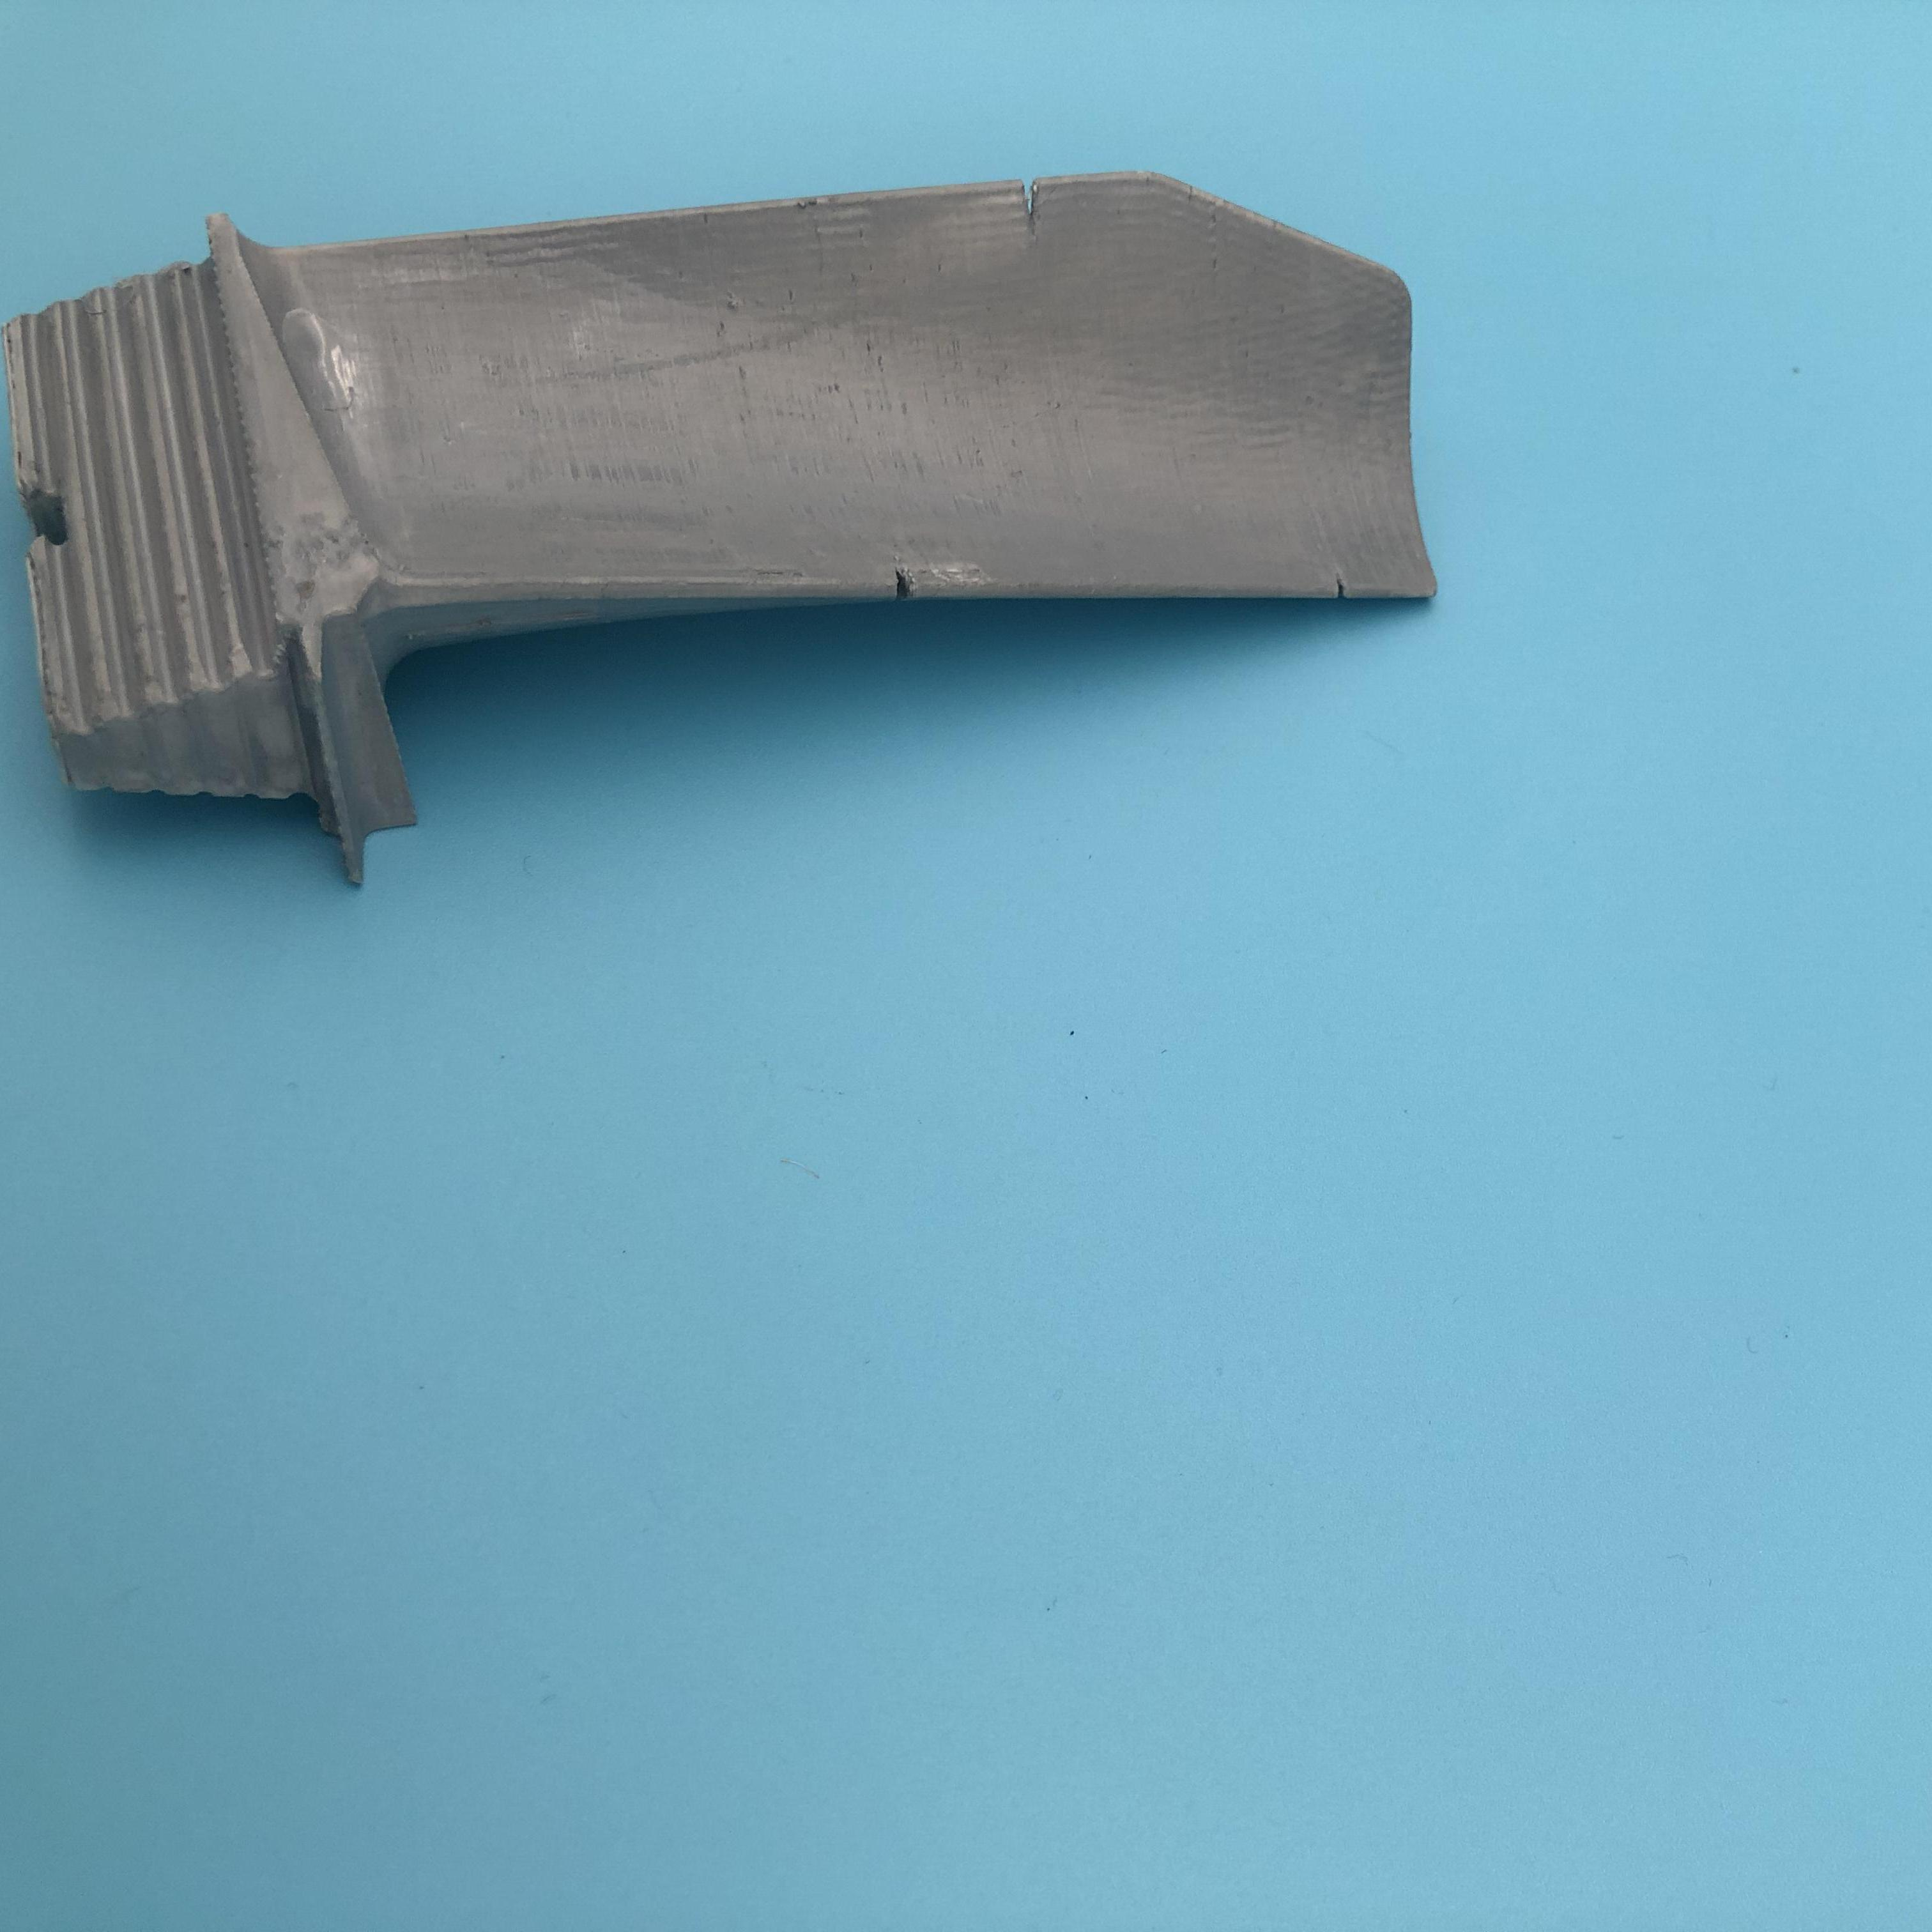groove: (1003, 179, 1060, 230), (885, 559, 936, 603), (1329, 568, 1361, 605)
